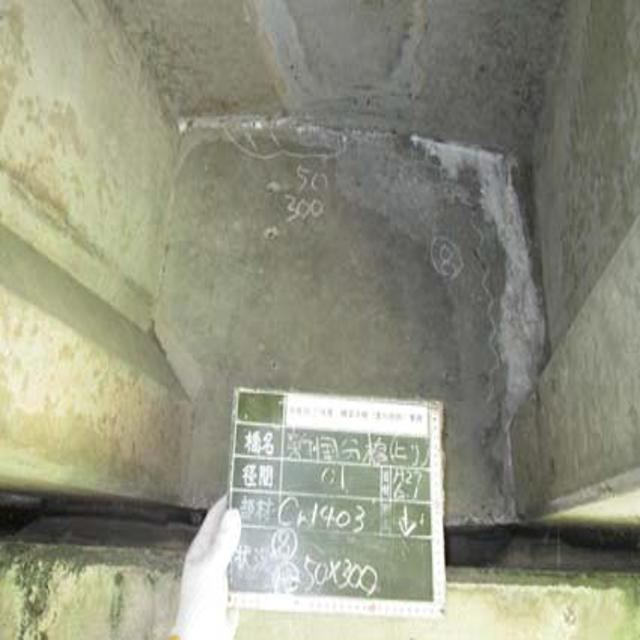freelime: (414, 117, 549, 462)
